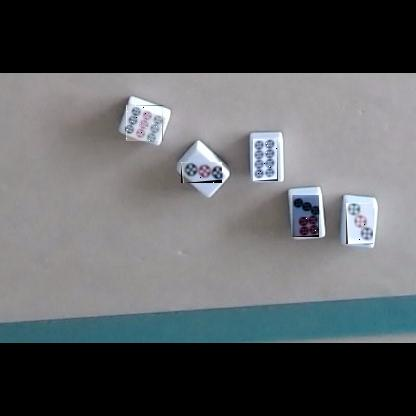3p: (346, 203, 373, 244), (181, 162, 222, 183)
7p: (292, 195, 319, 237)
8p: (253, 139, 278, 181)
9p: (126, 105, 163, 141)
